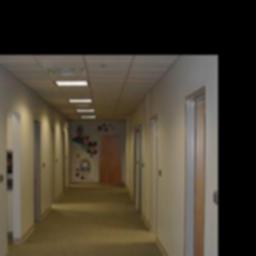Puerta: (193, 96, 205, 256)
